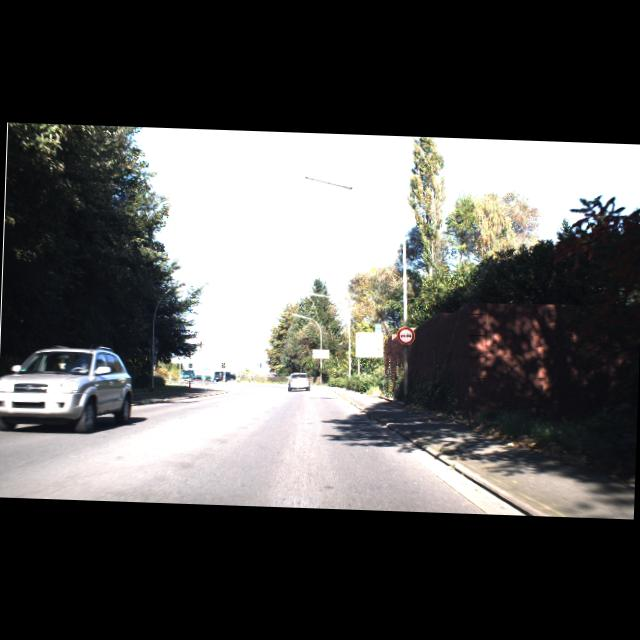prohibitory: (396, 324, 415, 344)
